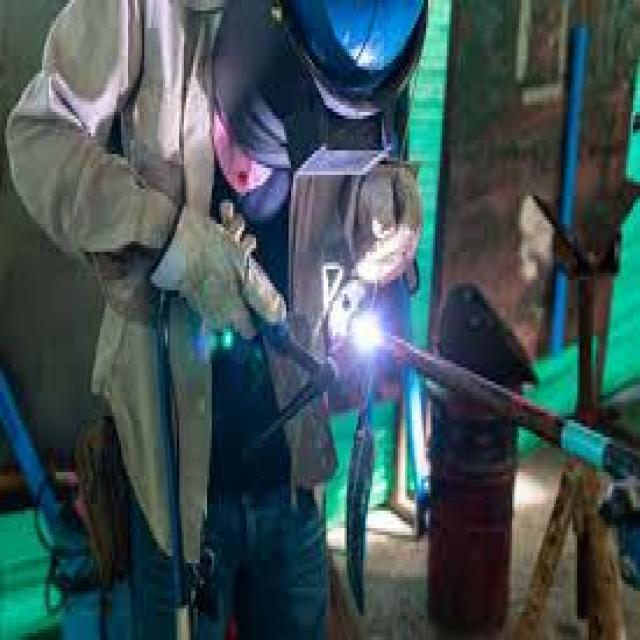welding: (355, 312, 379, 354)
